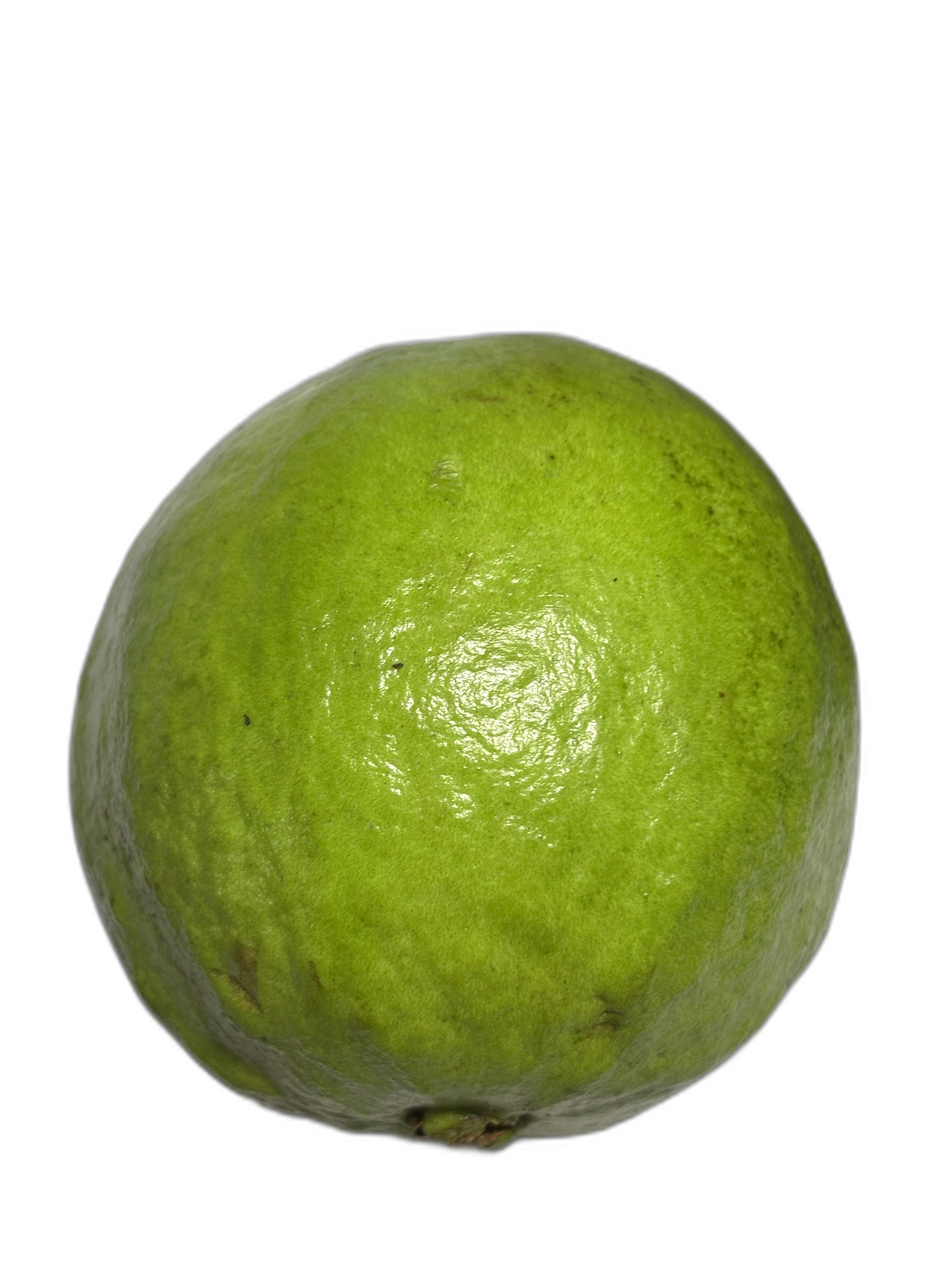guava: (31, 126, 734, 1097)
